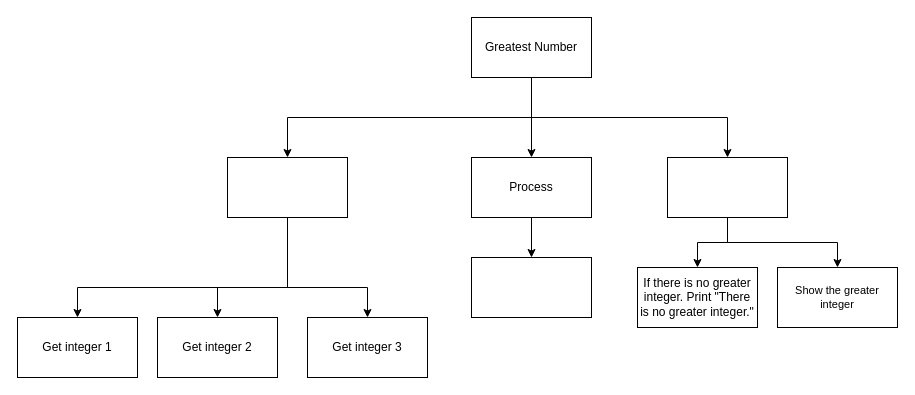
Image size: 915x395. Some labels were removed from this diagram. The centre of each missing label's shape, as x and y in pixels:
Checks which integer is greater than the others: the point at 531,287
Input: the point at 287,187
Output: the point at 727,187
